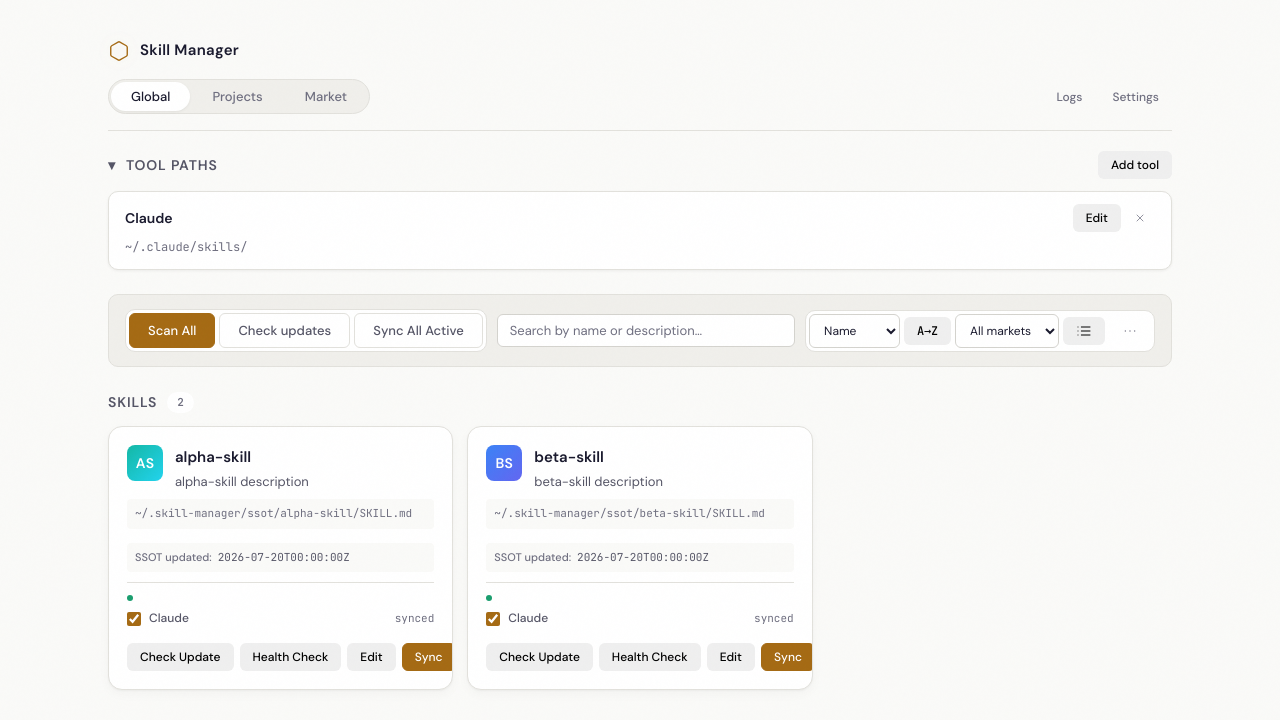
Scenario: App orchestration › runs a full scan from the global tab and auto-checks updates when skills were found
Expected: the heading "alpha-skill" is shown, [175,447,251,467]
Click the button "Scan All": [172, 331] box [129,313,215,348]
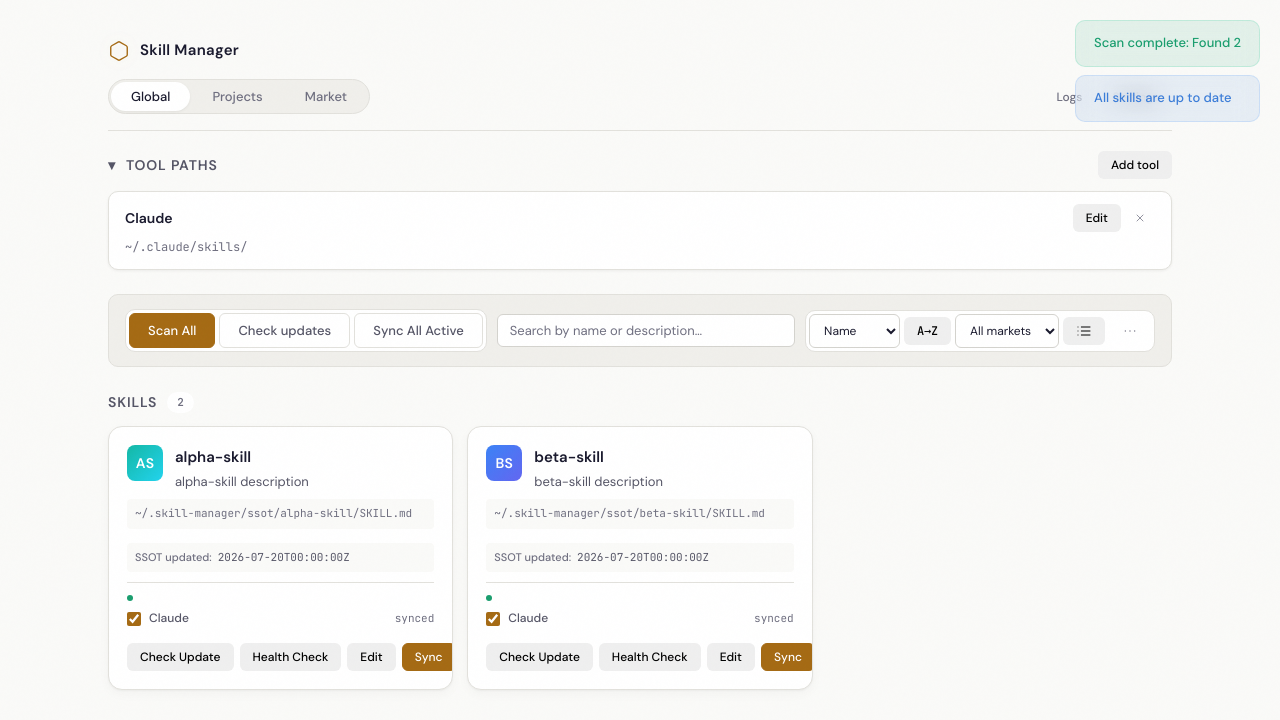
Expected: the text "All skills are up to date" is shown, [1075,75,1260,122]
